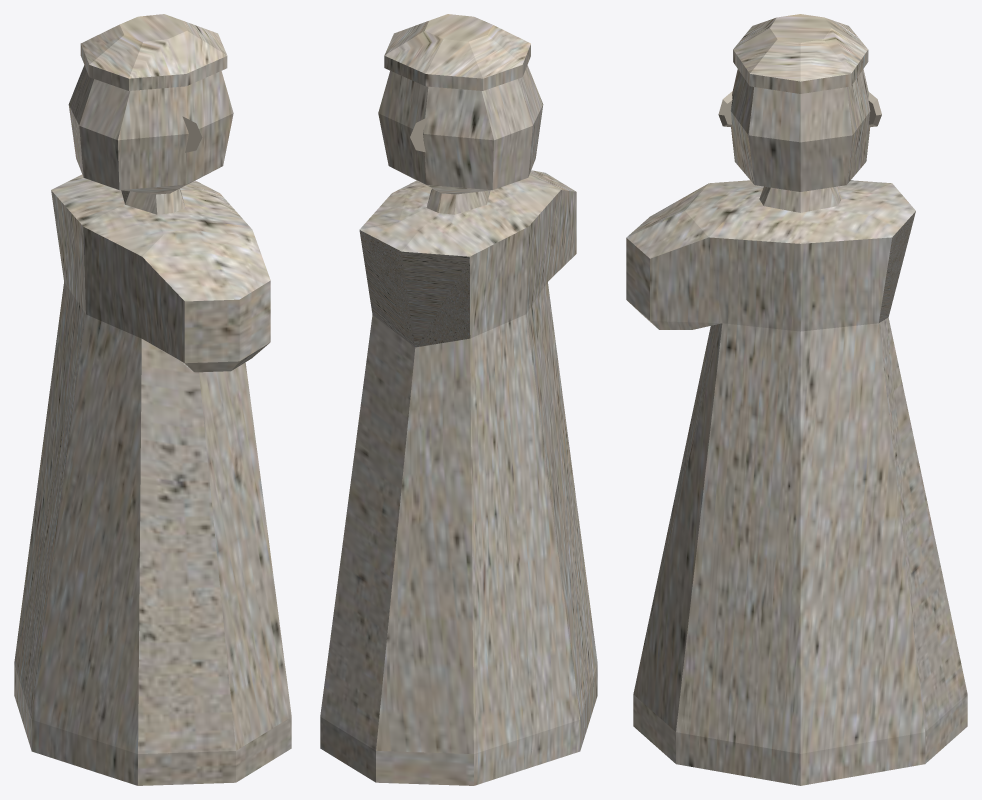
File: Statue3.fbx
3 renders of one model, left to right at view 1: azimuth 30°, elevation 25°; view 2: azimuth 150°, elevation 25°; view 3: azimuth 270°, elevation 25°, orthographic.
Visible parts, largest first — view 1: Circle; view 2: Circle; view 3: Circle, Circle.001.
Boxes of the visible parts, x1,y1,x2,y2 form: Circle: (14,14,291,785); Circle: (320,14,597,785); Circle: (626,14,967,785); Circle.001: (718,91,881,126).
Size of the model in its own units: 71.9 by 197 by 87.12.
